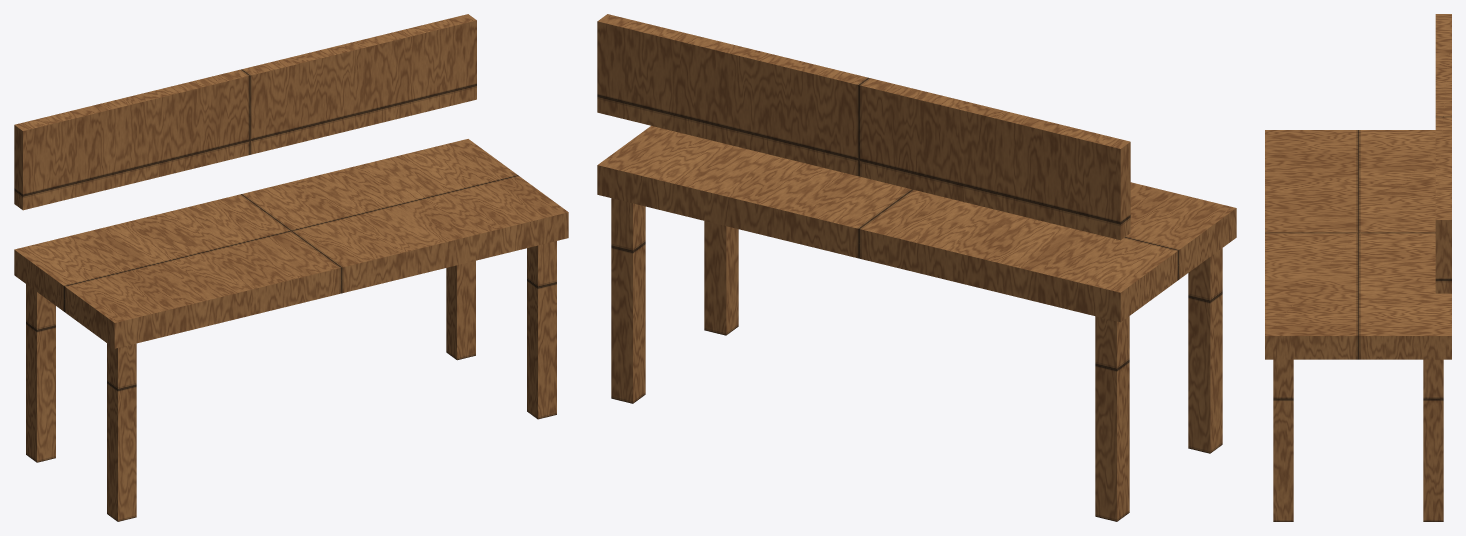
The model's file is Pad_ketszemelyes.obj.
3 renders of one model, left to right at view 1: azimuth 30°, elevation 25°; view 2: azimuth 150°, elevation 25°; view 3: azimuth 270°, elevation 25°, orthographic. The views are drawn at different scales.
Size of the model in its own units: 1.2 by 0.83 by 0.46.
Materials: 1 (1 with a texture image).
